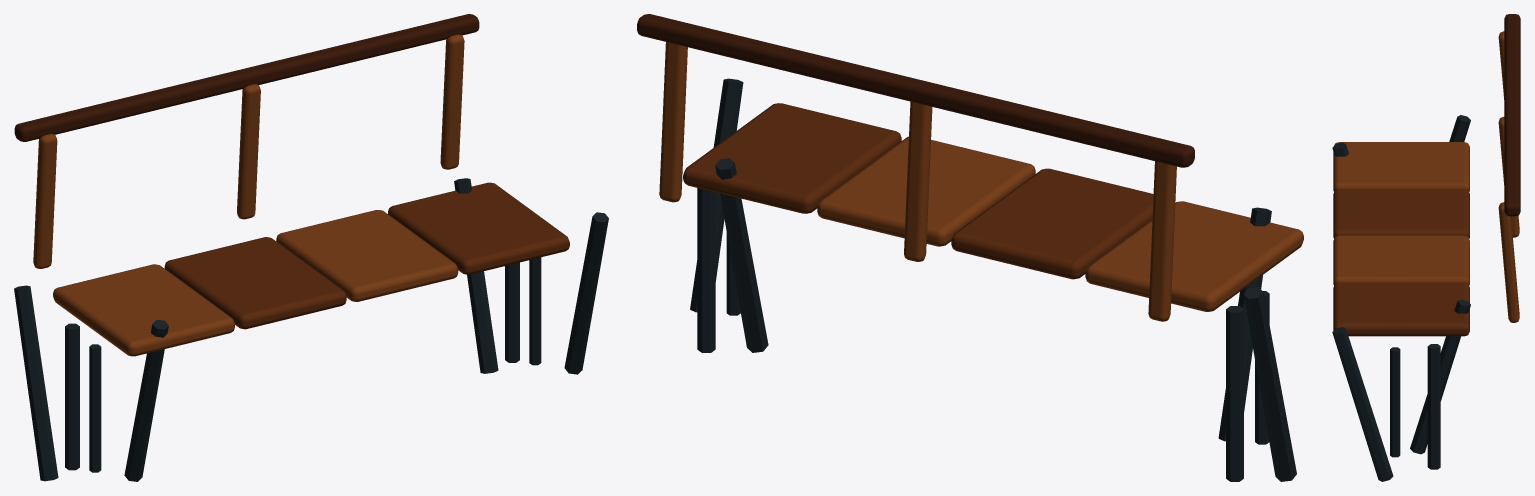
Rendered from bang_ghe.glb.
3 renders of one model, left to right at view 1: azimuth 30°, elevation 25°; view 2: azimuth 150°, elevation 25°; view 3: azimuth 270°, elevation 25°, orthographic. The views are drawn at different scales.
Visible parts, largest first — view 1: Mesh_0; view 2: Mesh_0; view 3: Mesh_0.
Part boxes in pixels (left/top/right/bottom): Mesh_0: left=14, top=14, right=608, bottom=481; Mesh_0: left=637, top=14, right=1303, bottom=481; Mesh_0: left=1332, top=14, right=1520, bottom=481.
Bounding box in the file's own units: 1.58 × 0.9025 × 0.578.
